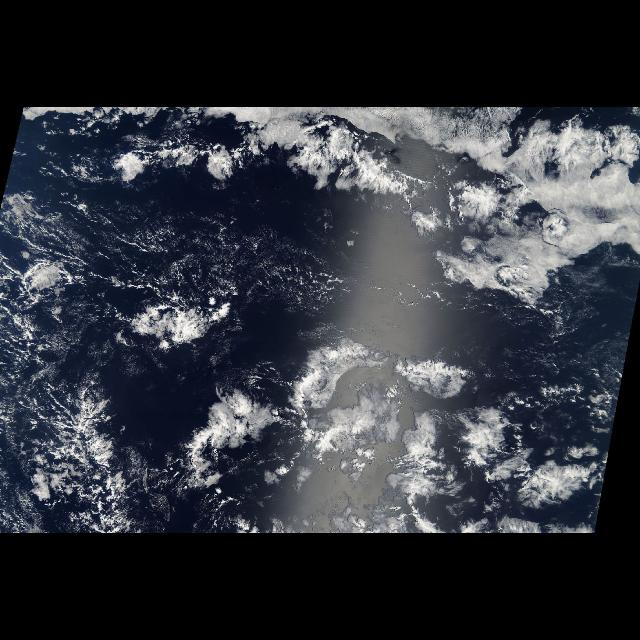Fish: (47, 354, 117, 514)
Flower: (127, 302, 605, 514)
Gravel: (3, 378, 127, 530)
Sugar: (130, 221, 298, 295)
